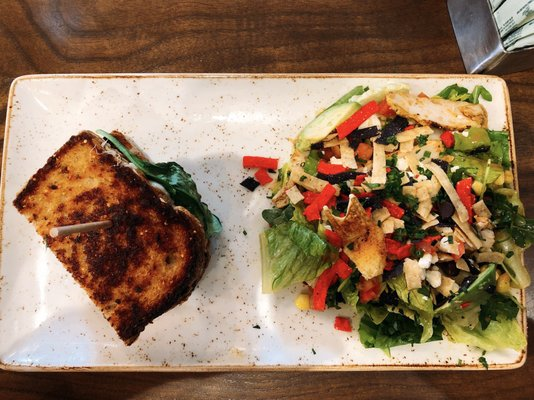curry: (433, 264, 527, 360)
